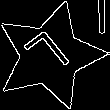L_SE: (21, 26, 79, 85)
